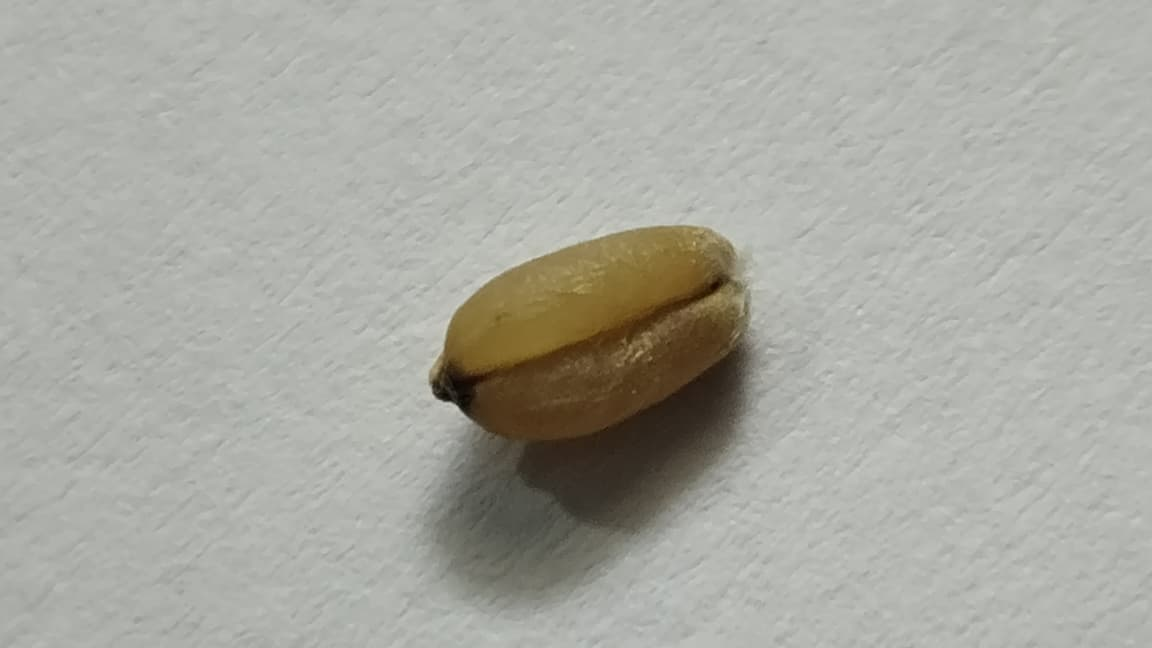healthy: (429, 226, 748, 440)
